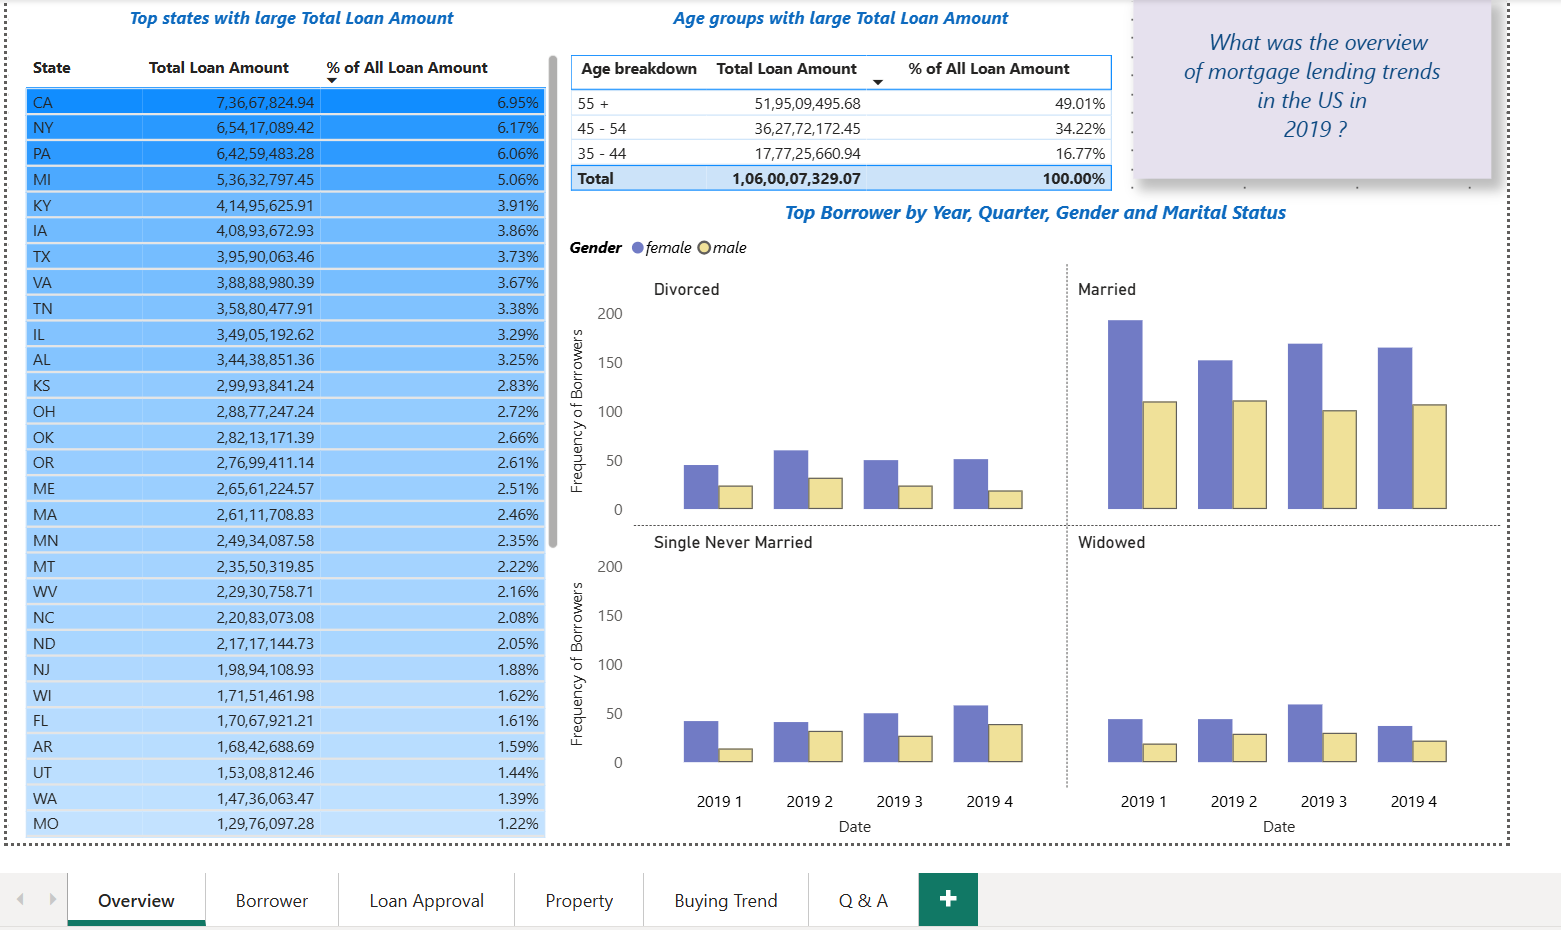

Layout of this report page (visuals, bound fields, positions):
{"tool":"powerbi","page":{"name":"Overview","canvas":[1280,720],"ordinal":0},"visuals":[{"type":"tableEx","fields":{"Values":["Borrower.State","Measure Table.Total Loan Amount","Measure Table.% of All Loan Amount"]},"box":[10,41.7,465,678.3],"z":0},{"type":"textbox","box":[10,0,465,41.7],"z":1000},{"type":"tableEx","fields":{"Values":["Borrower.Age breakdown","Measure Table.Total Loan Amount","Measure Table.% of All Loan Amount by Ages"]},"box":[475,41.7,473.3,128.3],"z":2000},{"type":"textbox","box":[475,0,473.3,41.7],"z":3000},{"type":"clusteredColumnChart","title":"Top Borrower by Year, Quarter, Gender and Marital Status","fields":{"Category":["Loan.Loan Date Hierarchy.Year","Loan.Loan Date Hierarchy.Quarter"],"Y":["CountNonNull(Borrower.Borrower Key)"],"Rows":["Borrower.Marital Status"],"Series":["Borrower.Sex"]},"box":[475,170,805,550],"z":4000},{"type":"textbox","box":[961.7,0,305,153.3],"z":5000}]}

Visuals, with their boxes in screenshot pixels (x1, y1, x2, y2):
tableEx - Borrower.State x Measure Table.Total Loan Amount: region(3, 61, 543, 847)
textbox: region(3, 12, 543, 61)
tableEx - Borrower.Age breakdown x Measure Table.Total Loan Amount: region(543, 61, 1092, 209)
textbox: region(543, 12, 1092, 61)
"Top Borrower by Year, Quarter, Gender and Marital Status" clusteredColumnChart: region(543, 209, 1477, 847)
textbox: region(1107, 12, 1461, 190)
